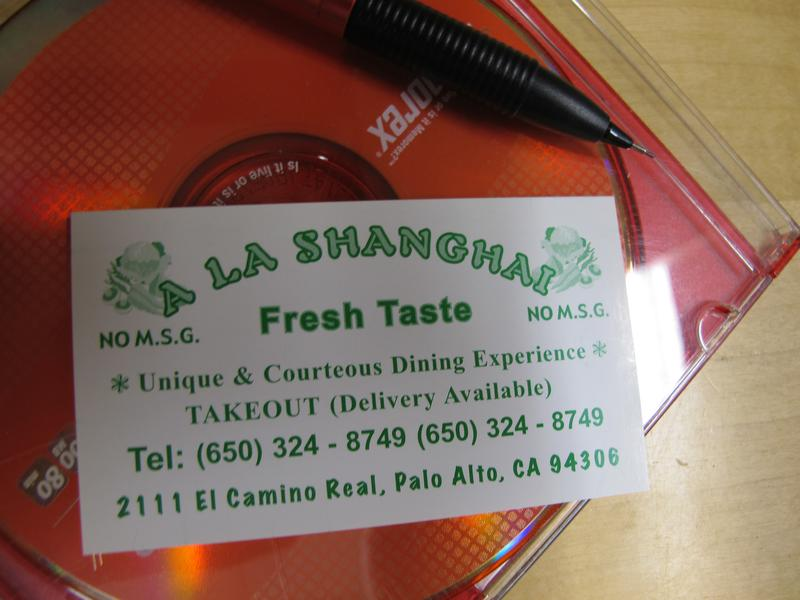card: (61, 196, 652, 551)
